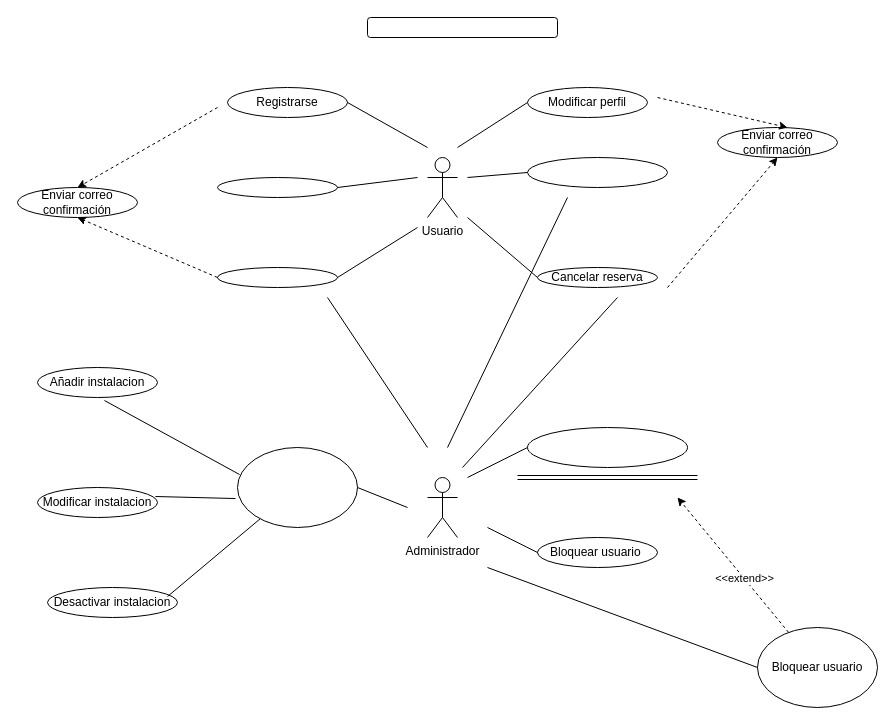
Some shapes in this 895 by 725 pixel diagram are drawn without their labels. The centre of each missing label's shape, as x and y in pixels:
"Administrar instalaciones" goes at (297,487).
"Consultar disponibilidad" goes at (597,172).
"Consultar listado de usuario" goes at (607,447).
"Iniciar sesión" goes at (277,187).
"Plataforma de reservas deportivas" goes at (462,27).
"Realizar reserva" goes at (277,277).
